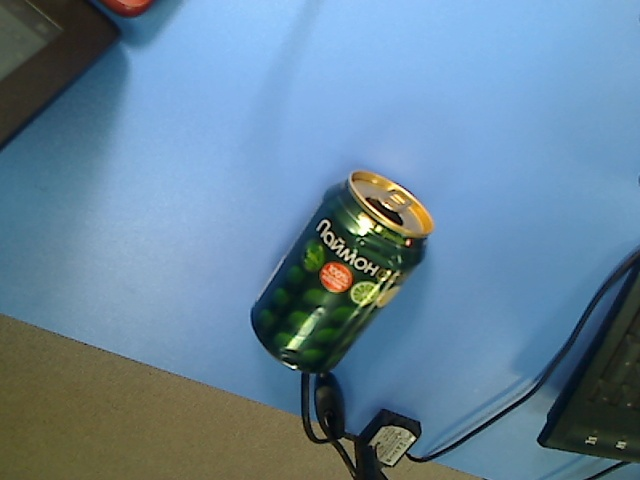can: (249, 169, 436, 376)
